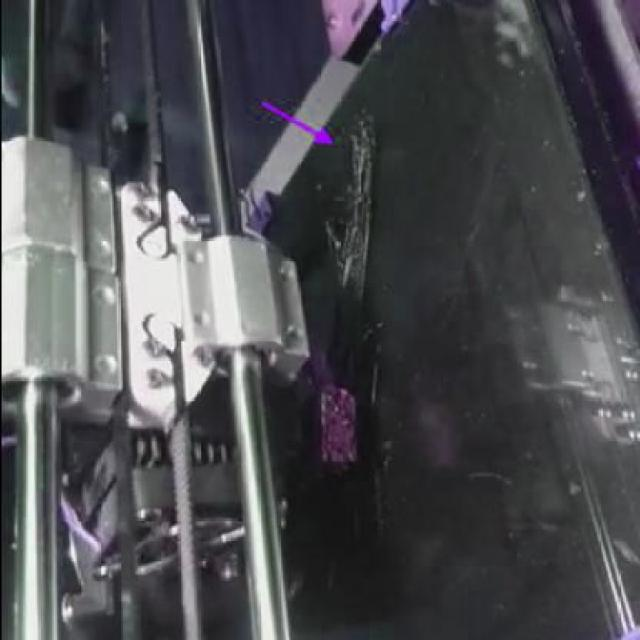Spaghetti: (342, 105, 378, 144), (321, 210, 344, 256)
